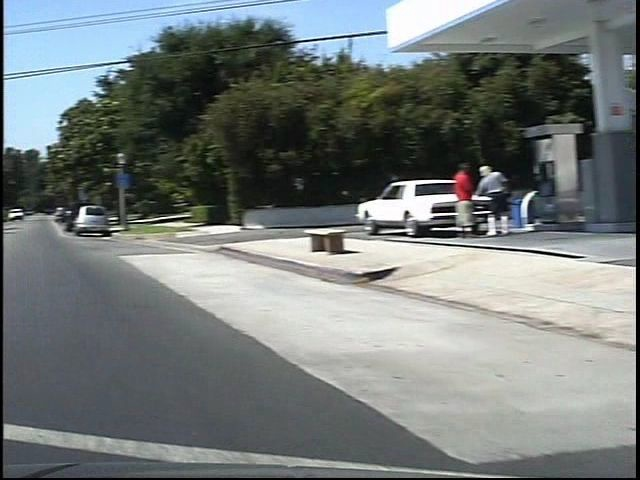person: (458, 162, 499, 242), (430, 158, 461, 242)
